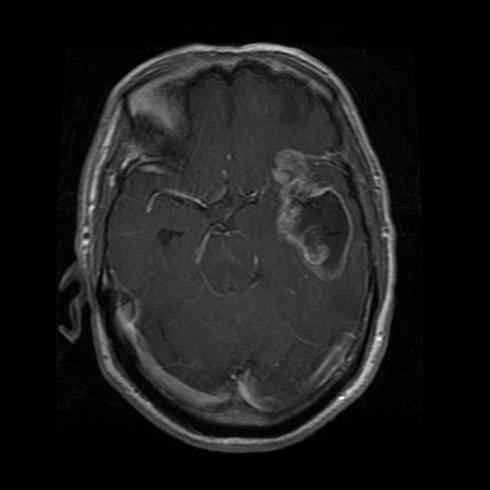Tumour-Glioma: (277, 177, 369, 296)
